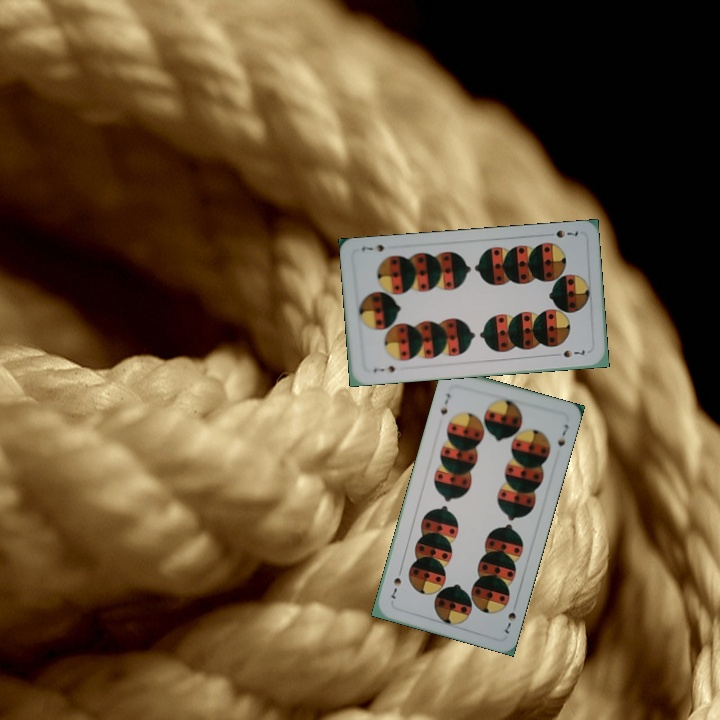S7: (500, 598, 520, 637), (436, 389, 453, 417), (552, 226, 581, 241), (369, 362, 397, 375)
